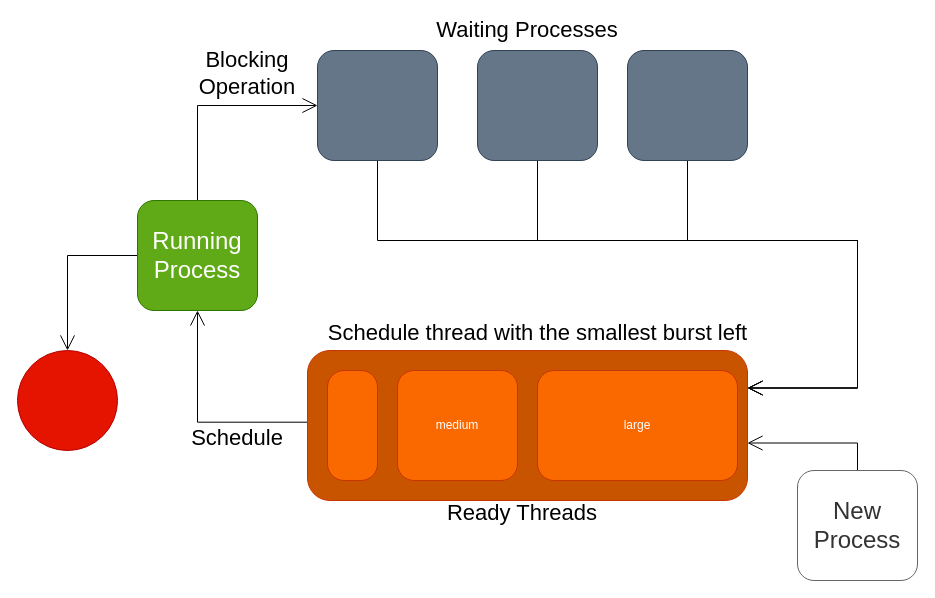
This 935x598 diagram has some shape labels left out. The centre of each missing label's shape, as x and y in pixels:
"small" belongs at (352,425).
"Terminated" belongs at (67,400).
